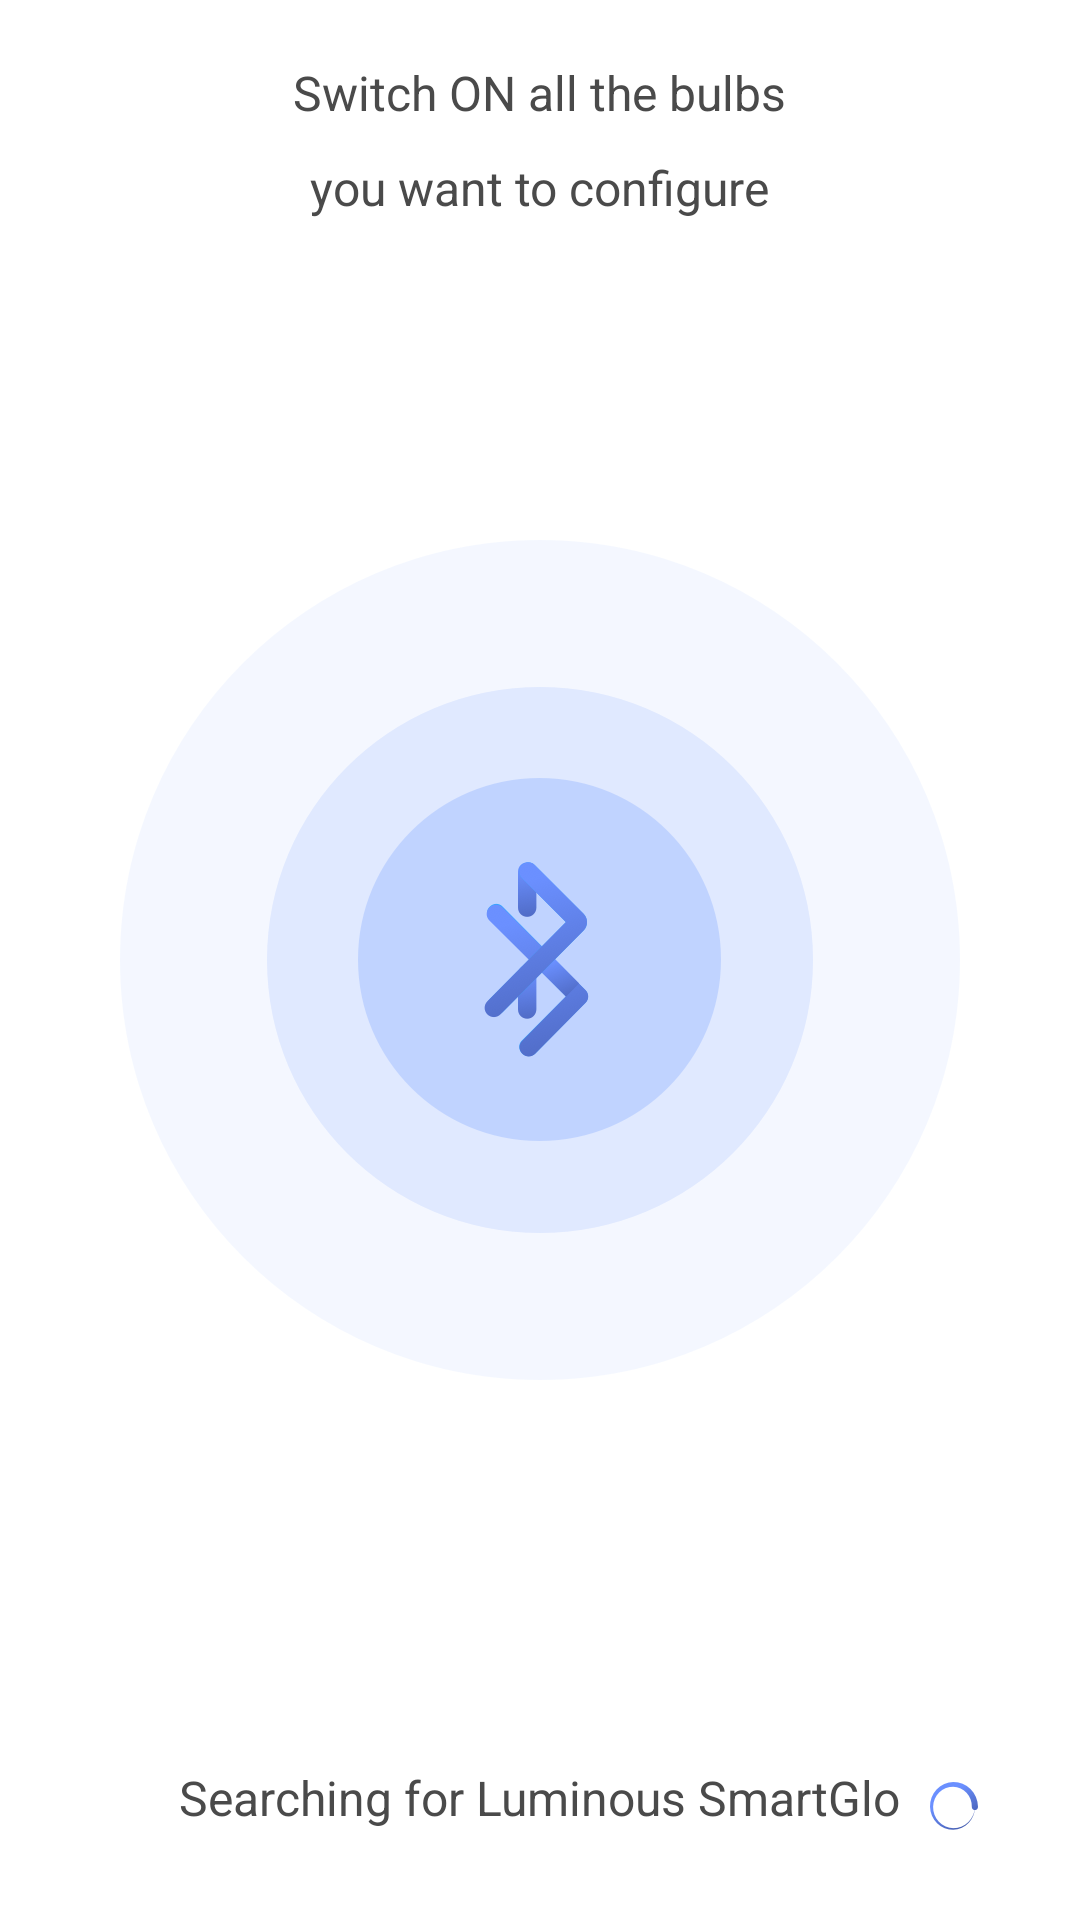

Screen size 1080px x 1920px. Icon name, then its box in pixels as (x1=x1, y1=y1, x2=x2, y2=y2):
spinner circle: (x1=930, y1=1782, x2=978, y2=1830)
